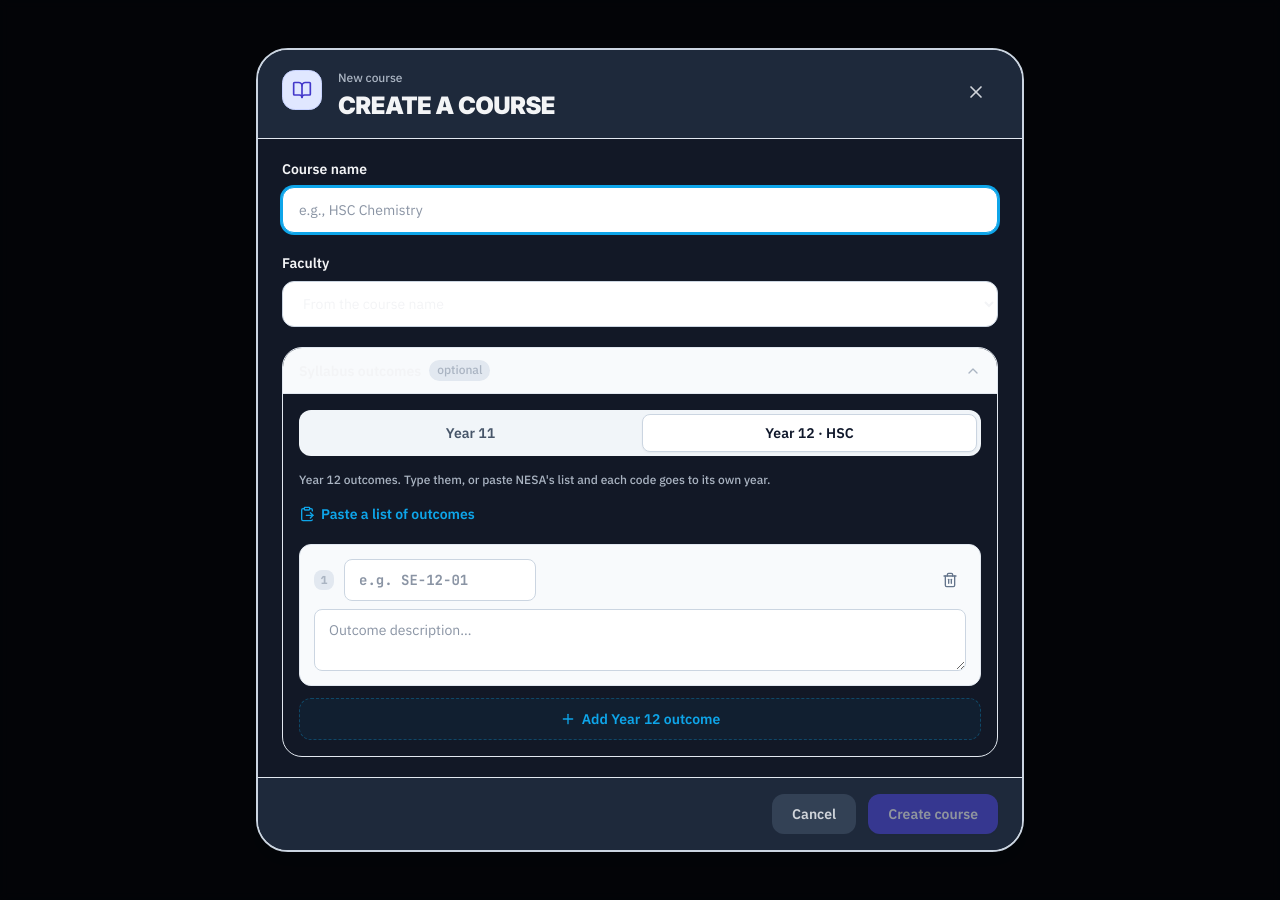
creating a course with two years of outcomes › counts both years in the section header, so collapsing it does not read as lost work
Step 1. Type "HSC Physics" into the field labelled "Course name" → (640, 210), box [282,187,998,233]
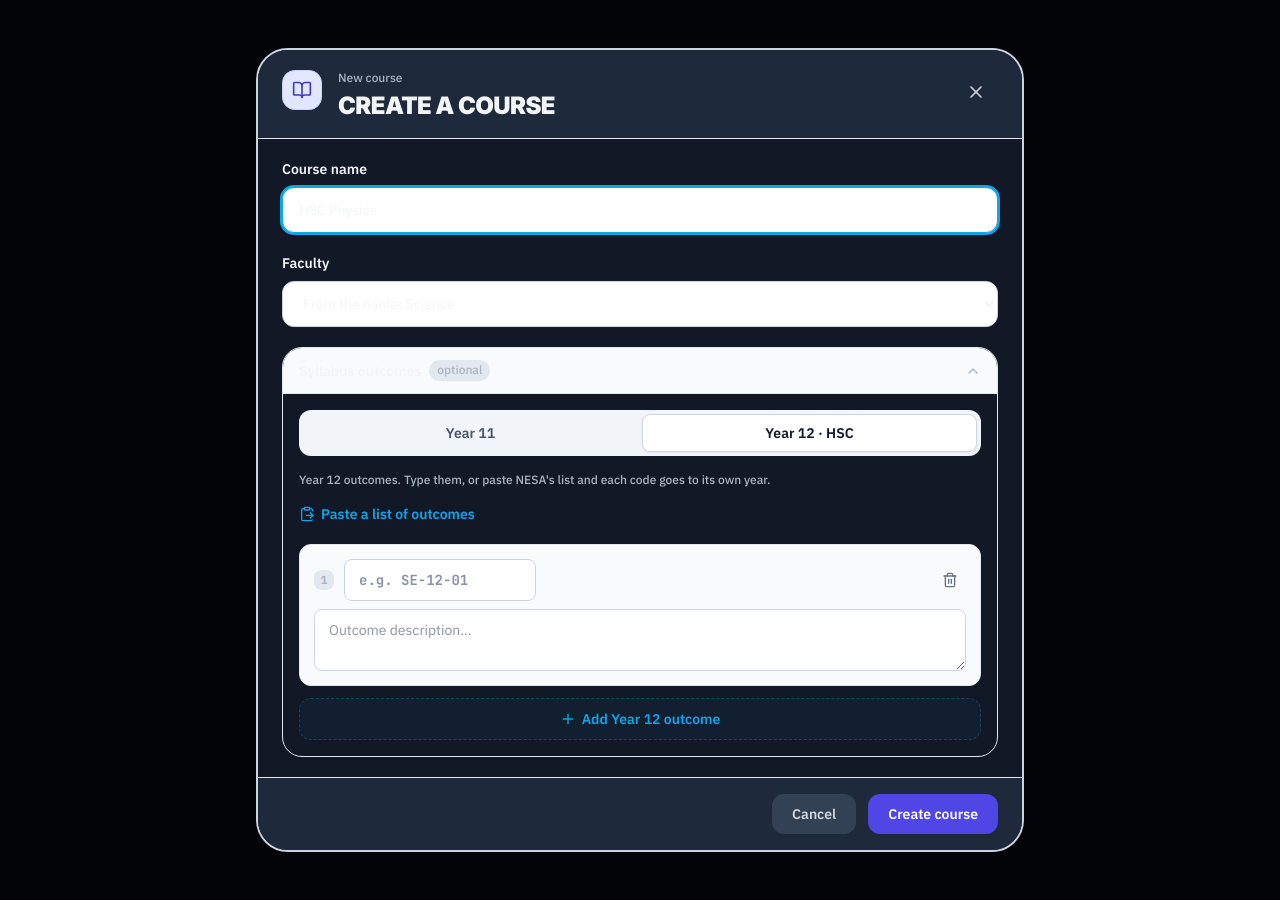
Step 2. Type "PH-12-01" into the field with placeholder "e.g. SE-12-01" → (440, 580), box [344,559,536,601]
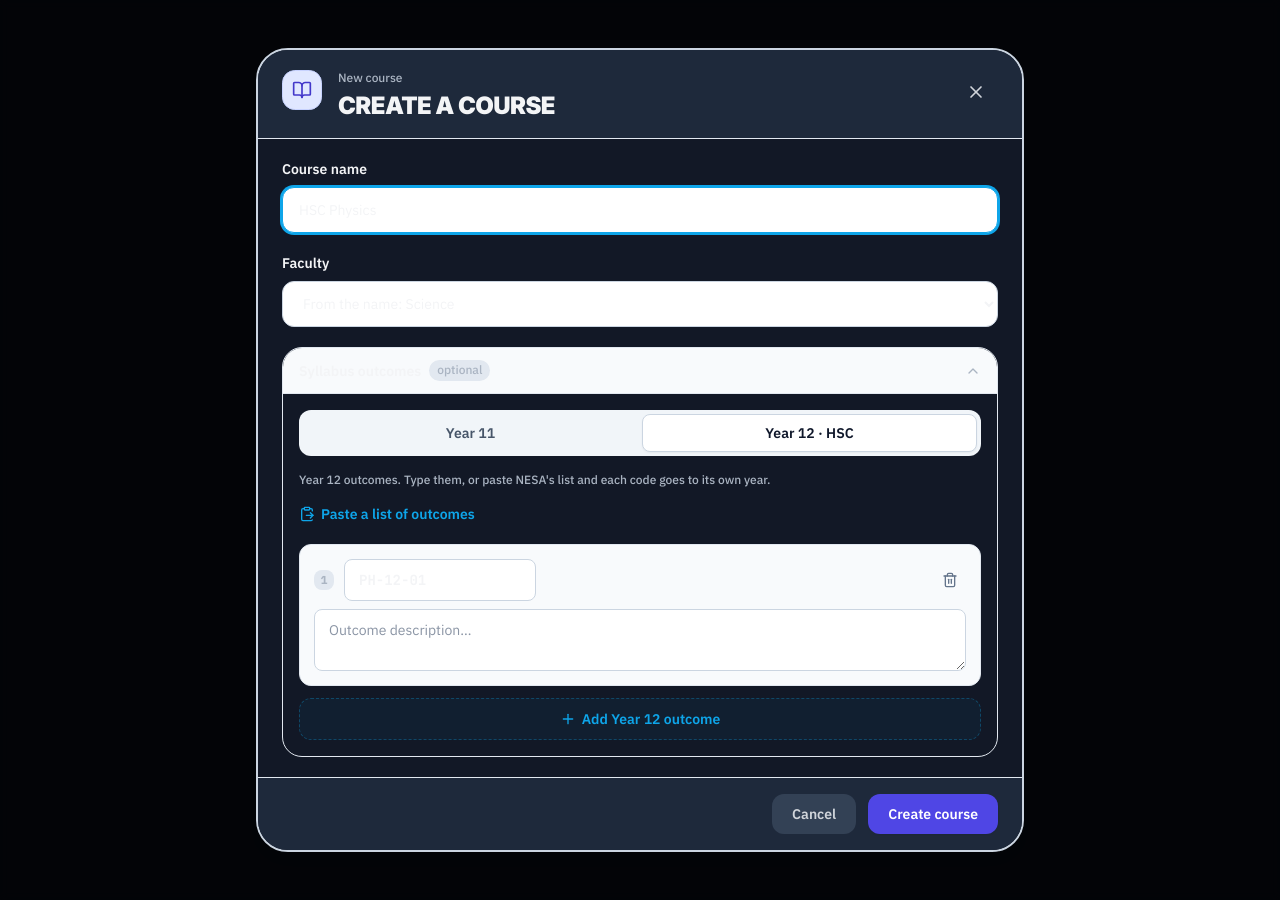
Step 3. Type "HSC one" into the text box with placeholder "Outcome description…" → (640, 640), box [314,609,966,671]
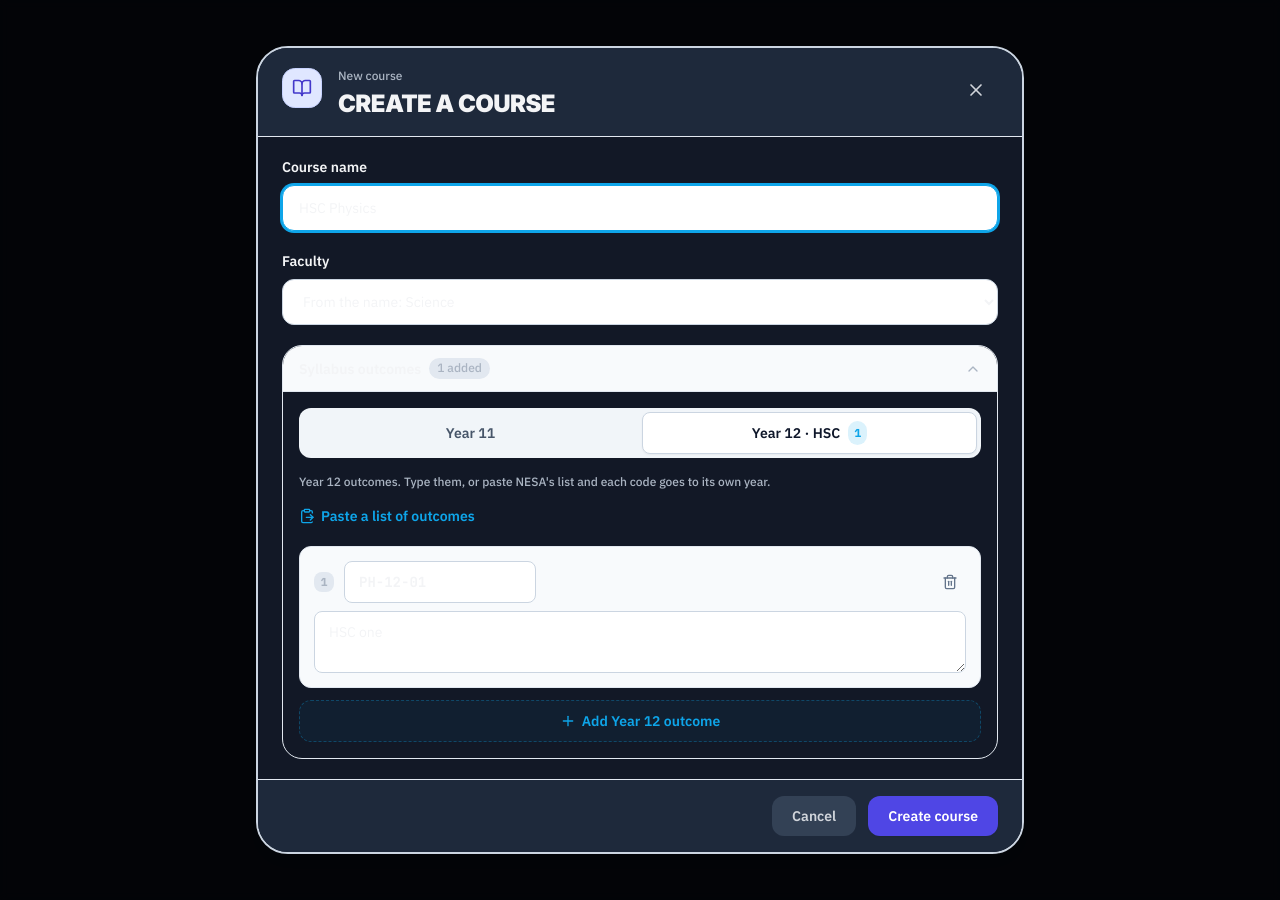
Step 4. Click the tab "Year 11" → (470, 433), box [303,414,638,452]
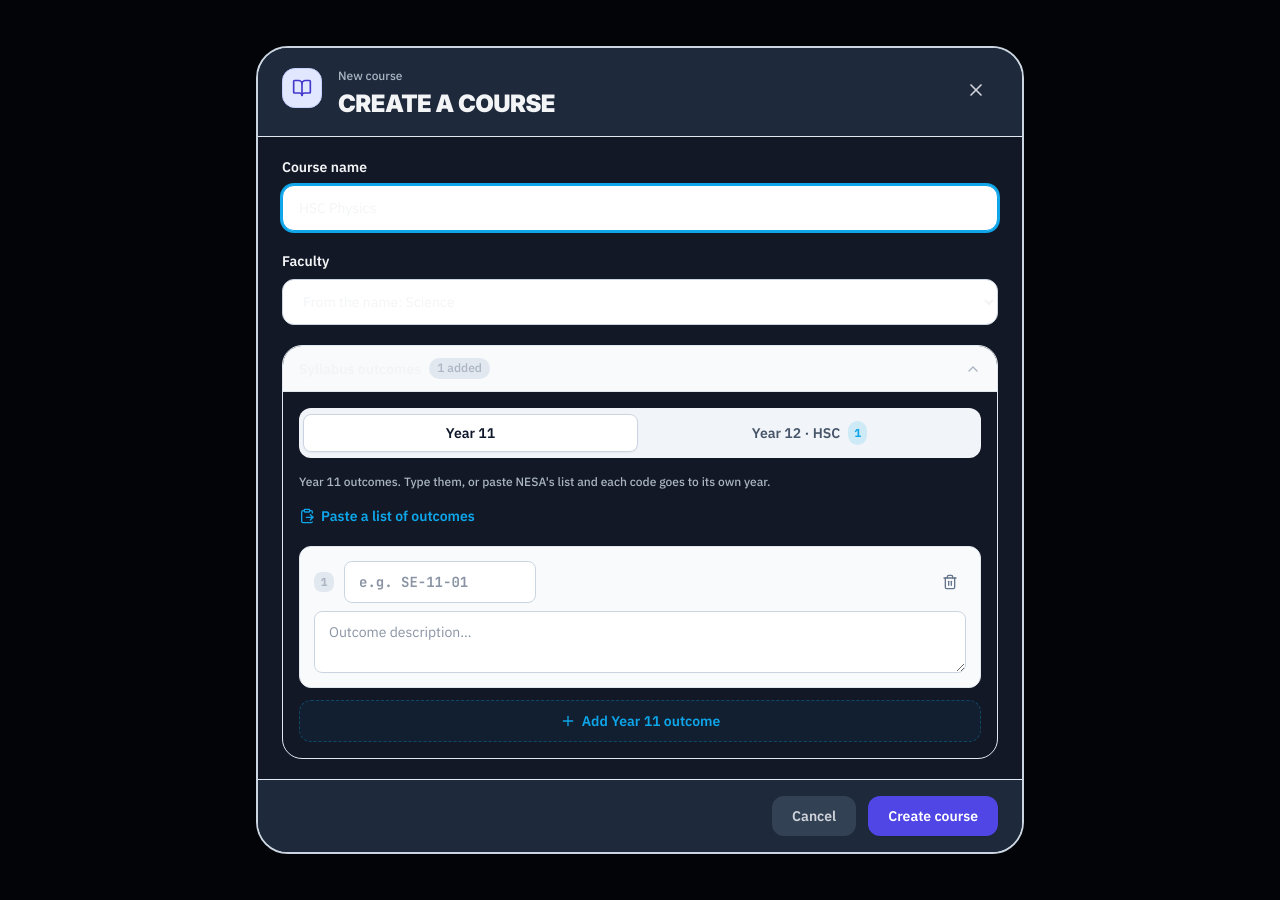
Step 5. Type "PH-11-01" into the field with placeholder "e.g. SE-11-01" → (440, 582), box [344,561,536,603]
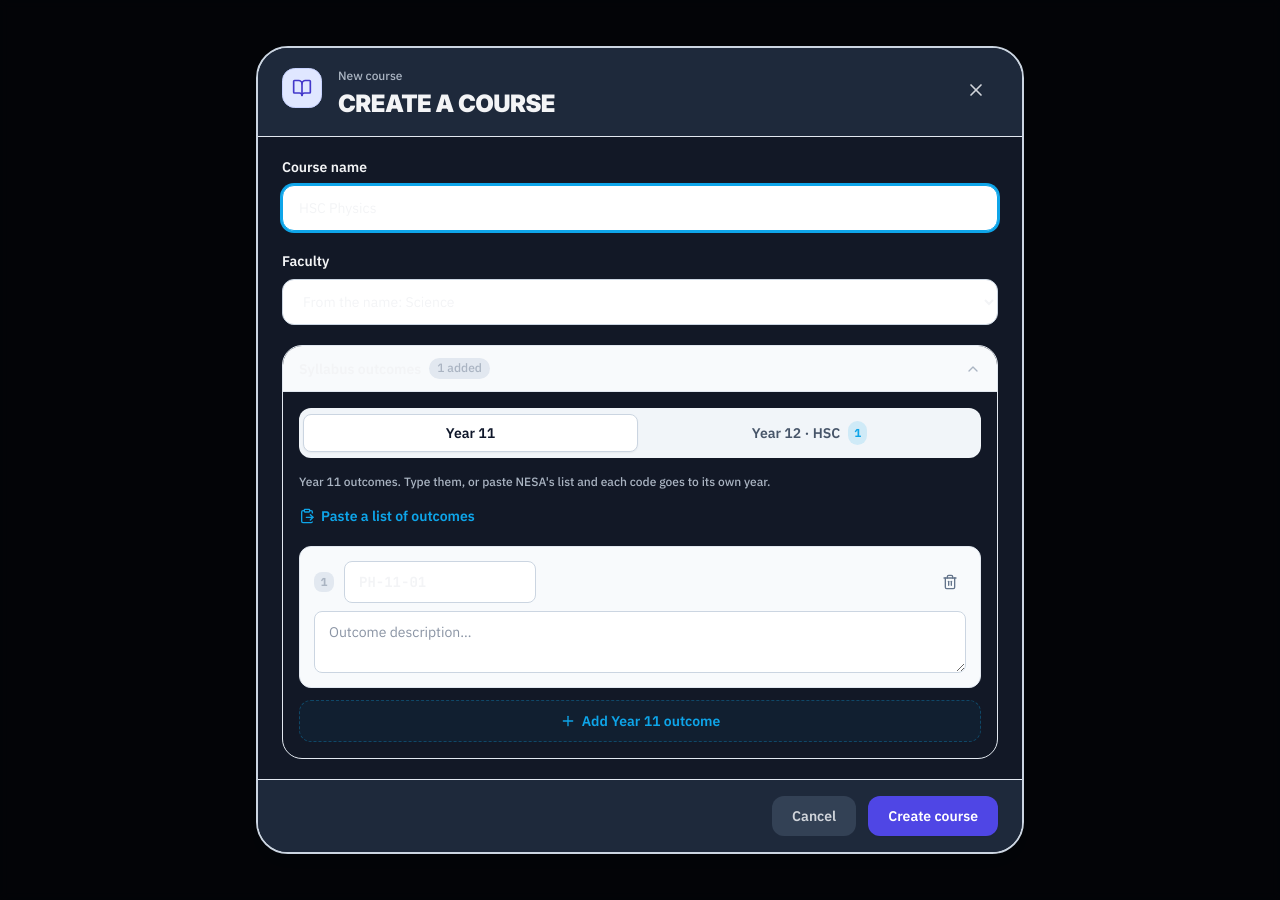
Step 6. Type "Prelim one" into the text box with placeholder "Outcome description…" → (640, 642), box [314,611,966,673]
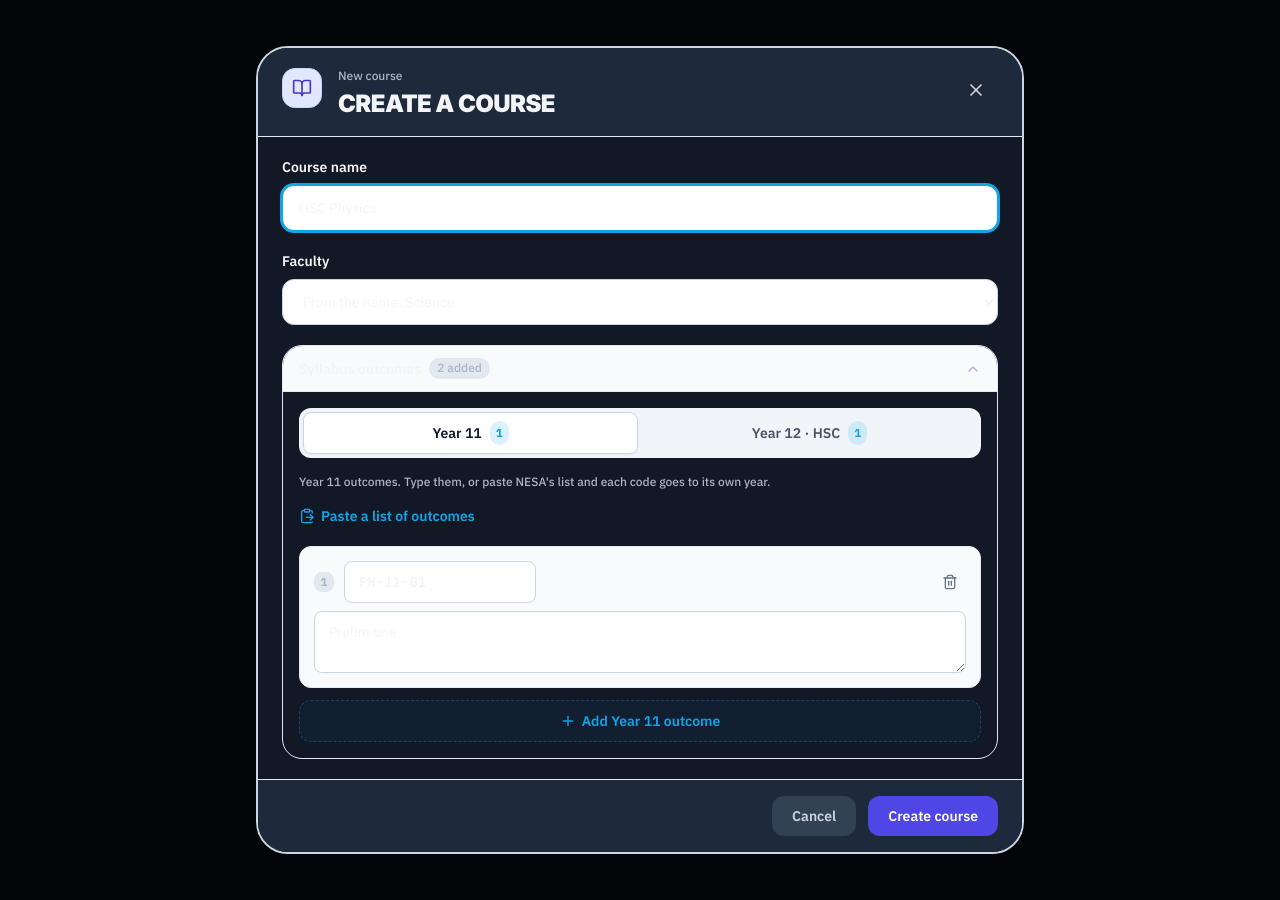
Check: the text "2 added" is shown, box [429,358,490,379]
